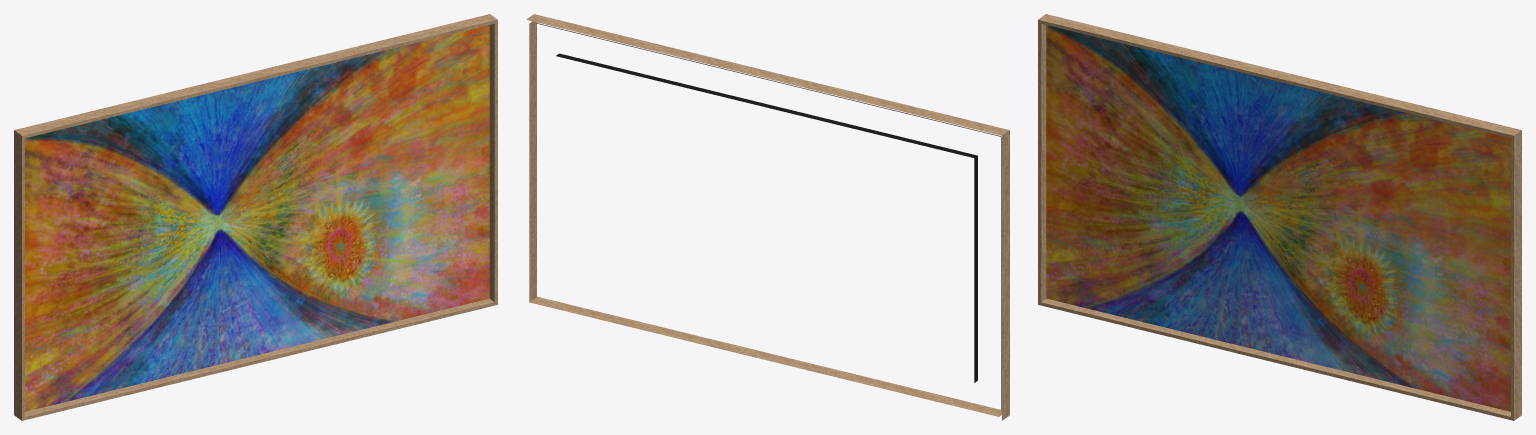
File: hz015_grand_caisse-chene.glb
The picture shows the model from 3 angles, left to right: view 1: azimuth 30°, elevation 25°; view 2: azimuth 150°, elevation 25°; view 3: azimuth 330°, elevation 25°; orthographic projection.
Parts seen in each view (by area): view 1: hz015_grand_caisse-chene; view 2: hz015_grand_caisse-chene; view 3: hz015_grand_caisse-chene.
Boxes of the visible parts, <box> form: hz015_grand_caisse-chene: <box>14,14,497,420</box>; hz015_grand_caisse-chene: <box>526,14,1009,420</box>; hz015_grand_caisse-chene: <box>1038,14,1521,420</box>.
Size of the model in its own units: 1.23 by 0.703 by 0.035.
4 materials, 2 textured.
